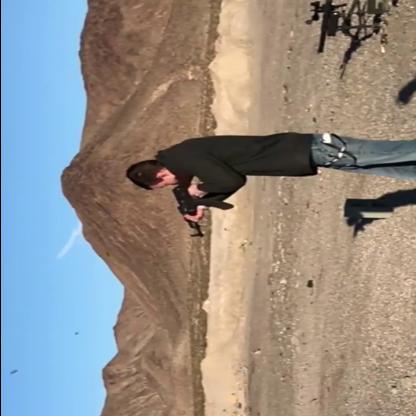long weapon: (170, 170, 236, 242)
